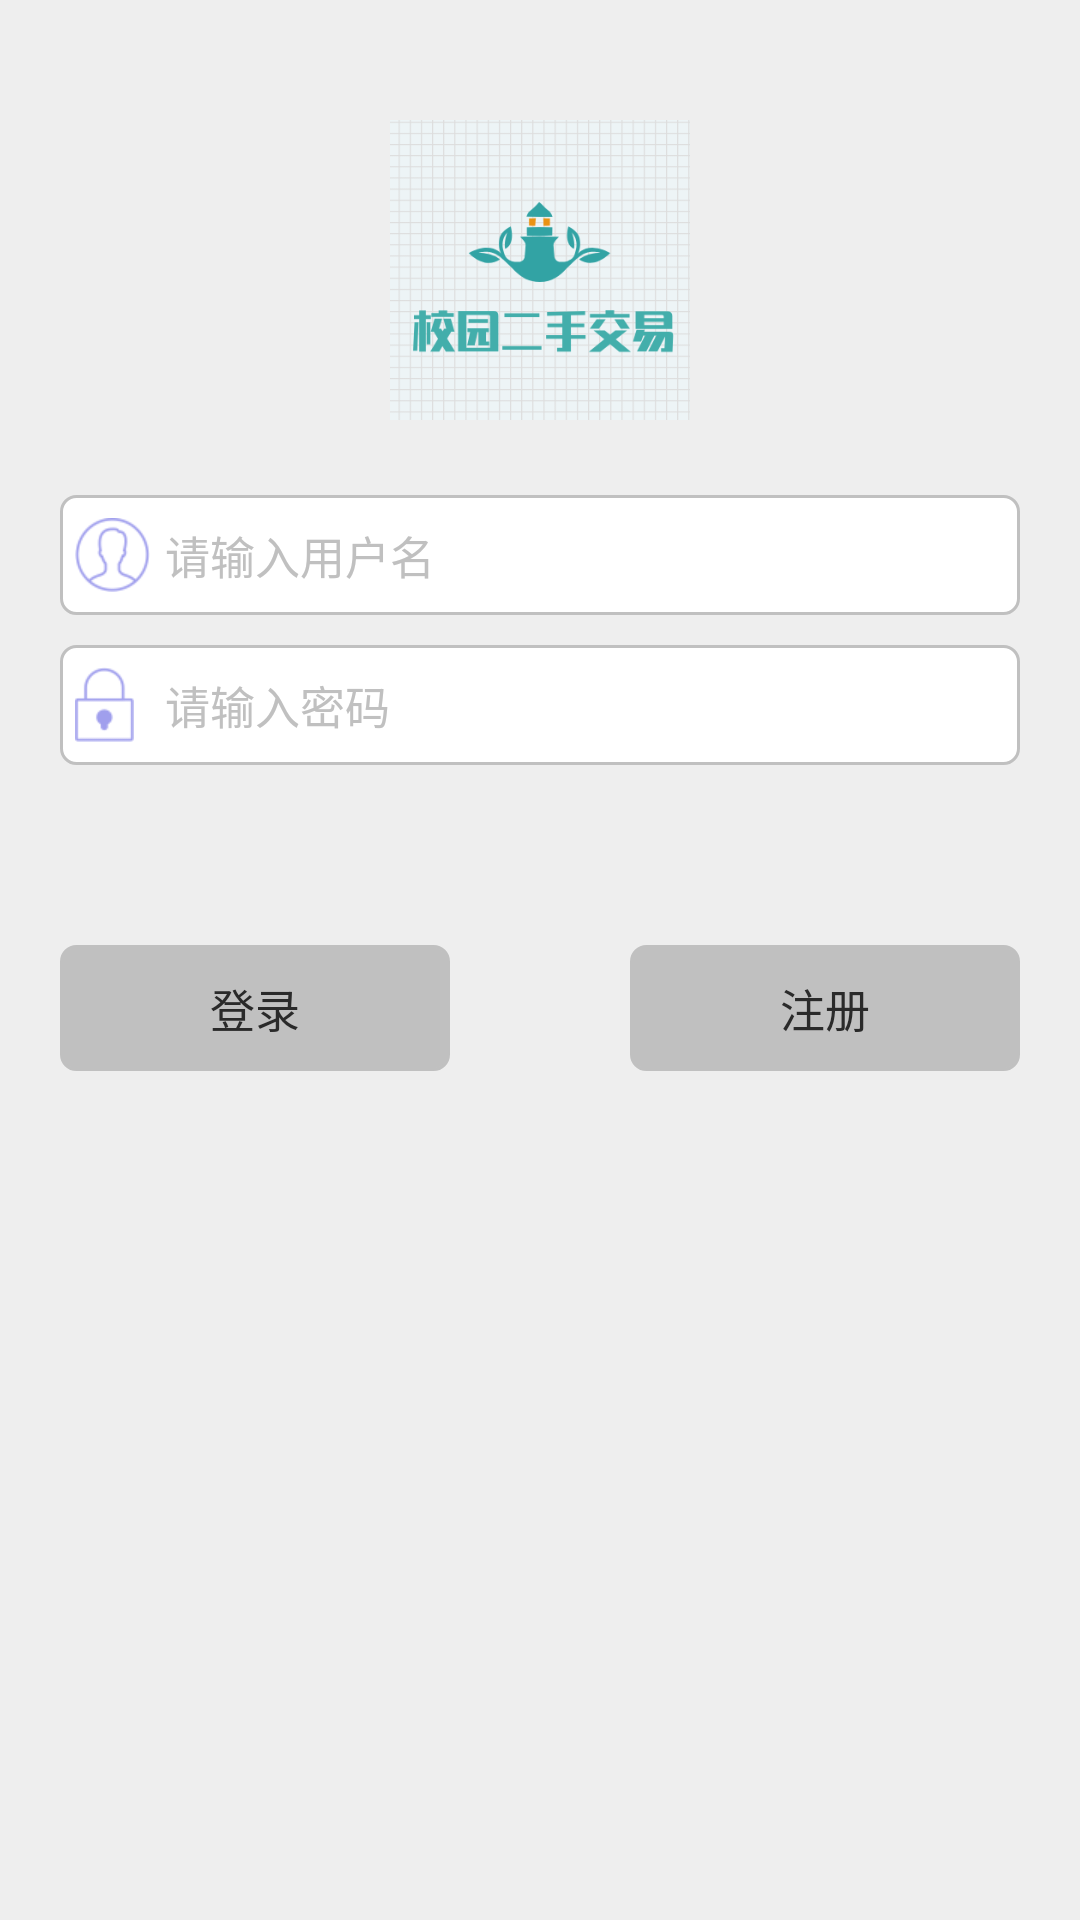

Icon bounding boxes for this 1080w x 1920h phone screenshot, format (x1, y1, x2, y2):
lock: (75, 668, 134, 742)
log: (410, 122, 689, 413)
profile: (75, 518, 149, 592)
